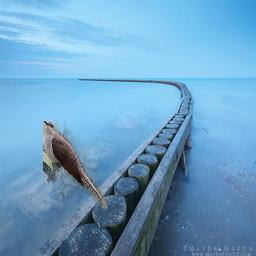Cuckoo: (44, 120, 109, 210)
